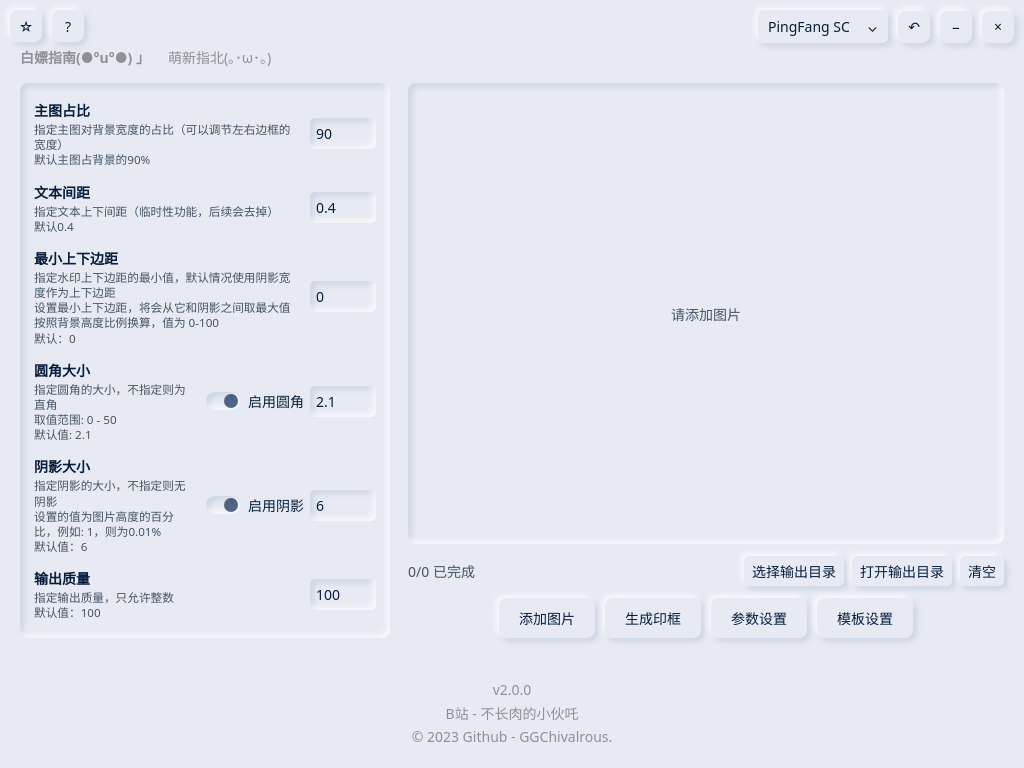
Test: App › surfaces a failure status when copying the feedback group is denied
Expected: the button "添加图片" is shown, [499,598,595,638]
What coordinates should you click on to do the following:
click the button named "反馈与赞赏"
I would click on:
 (26, 26)
Its box is [10,10,42,42].
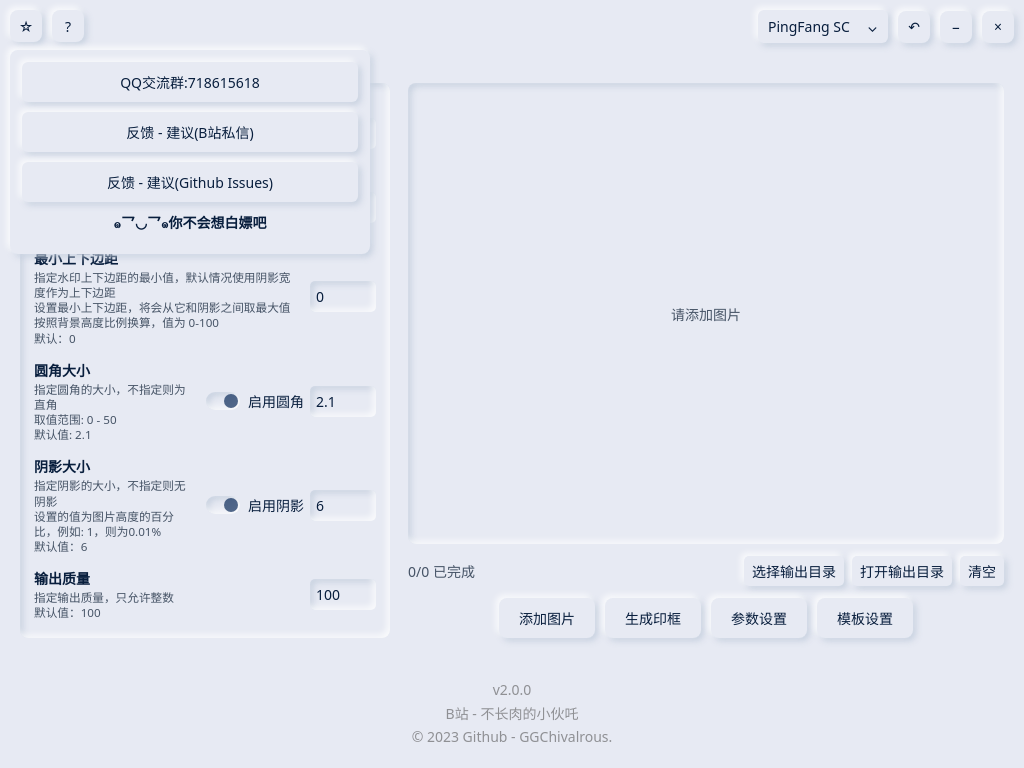
What coordinates should you click on to do the following:
click the button "QQ交流群:718615618"
I would click on:
 (190, 82)
Its box is [22,62,358,102].
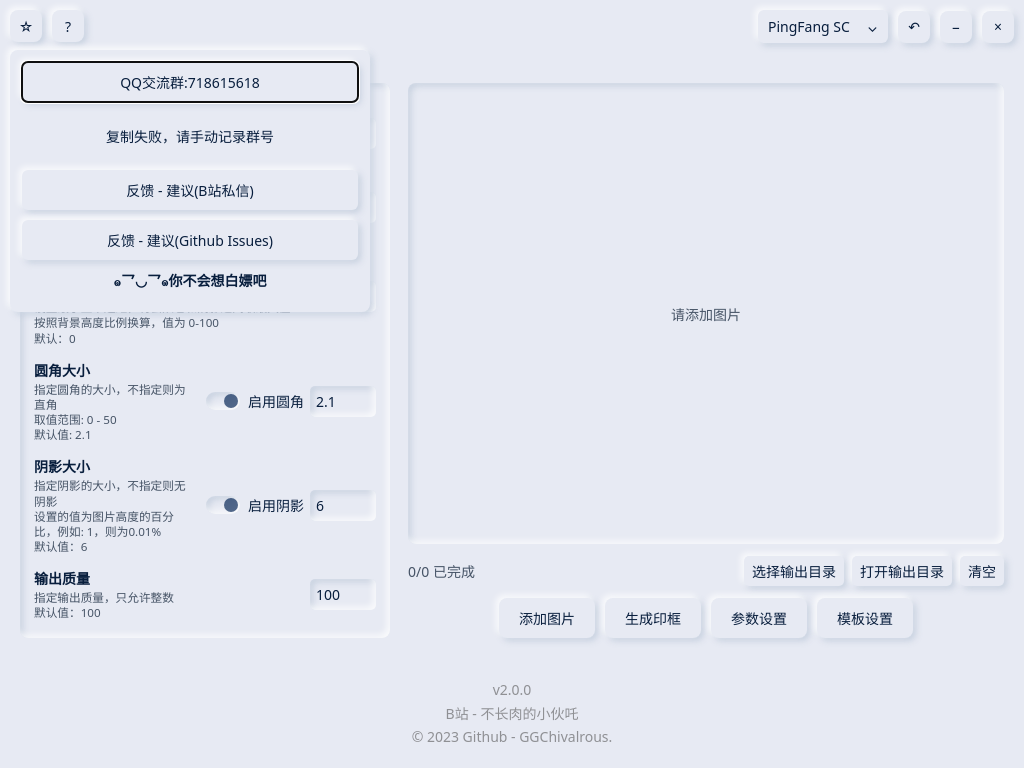
Expected: the text "复制失败，请手动记录群号" is shown, [106,127,274,146]
